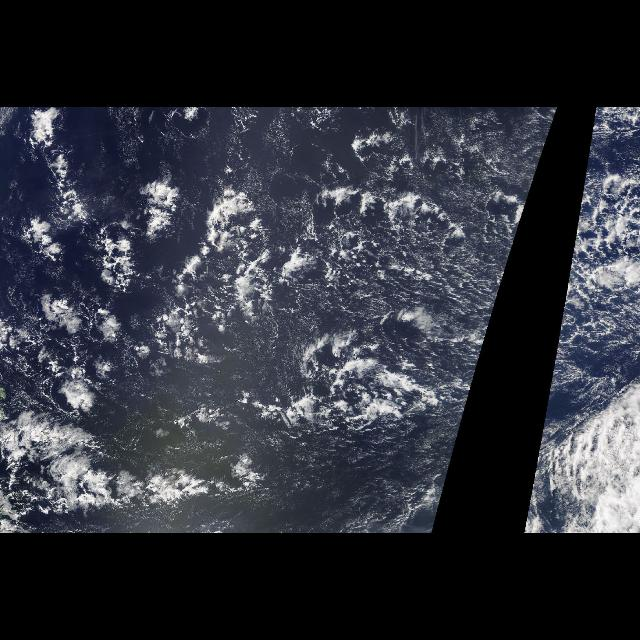Flower: (1, 181, 268, 521)
Gravel: (280, 148, 544, 438), (539, 148, 639, 438)
